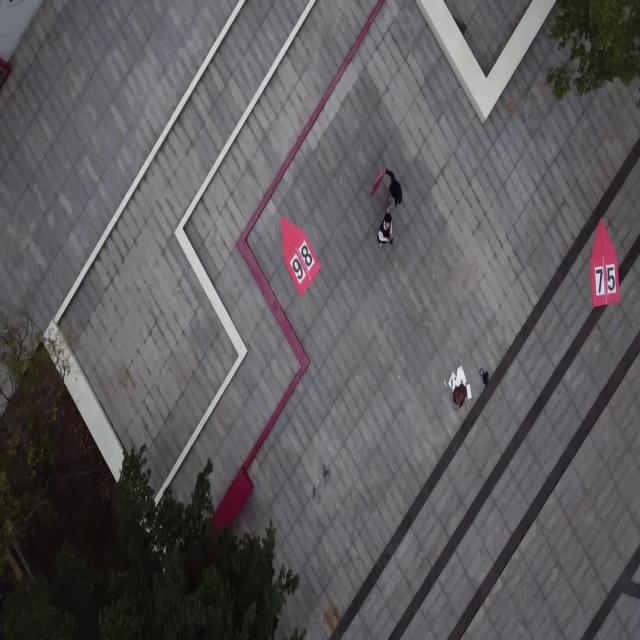-sign-: (279, 216, 321, 299), (589, 216, 621, 308)
